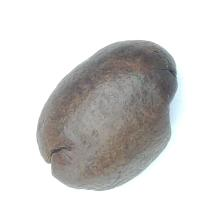NG: (154, 49, 178, 131), (42, 142, 72, 171)
